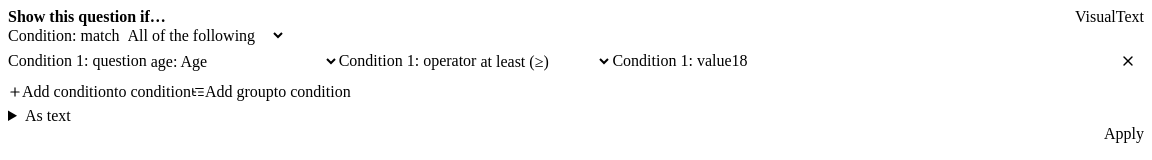
Test: ConditionBuilder › the text view opens on the tree’s text, and a late tree print never replaces what was typed
// Straight to Text, before the tree's own (debounced) print has run.
Click the button with test id "view-text" at {"x": 1130, "y": 17}, box x1=1116 y1=8 x2=1144 y2=26
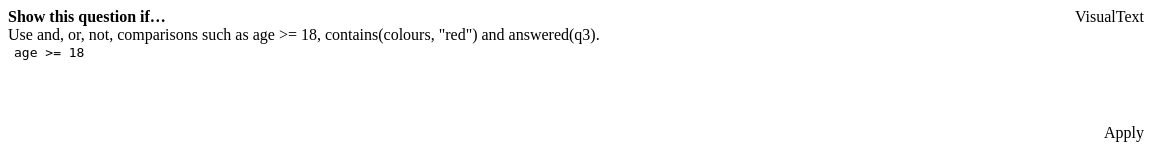
Expected: the text "age >= 18" is shown, x1=253 y1=26 x2=317 y2=43
